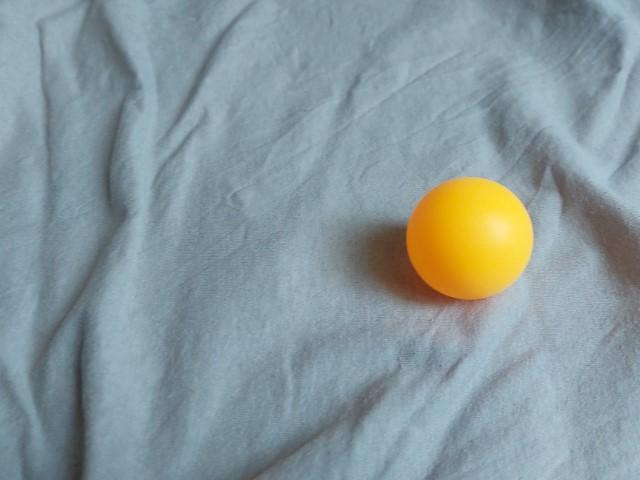oball: (398, 171, 540, 306)
